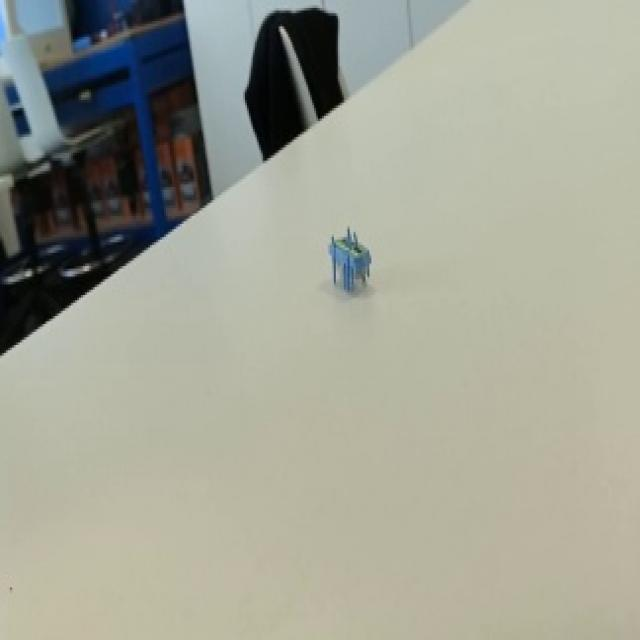3_NanoBug_Celeste: (309, 208, 386, 303)
